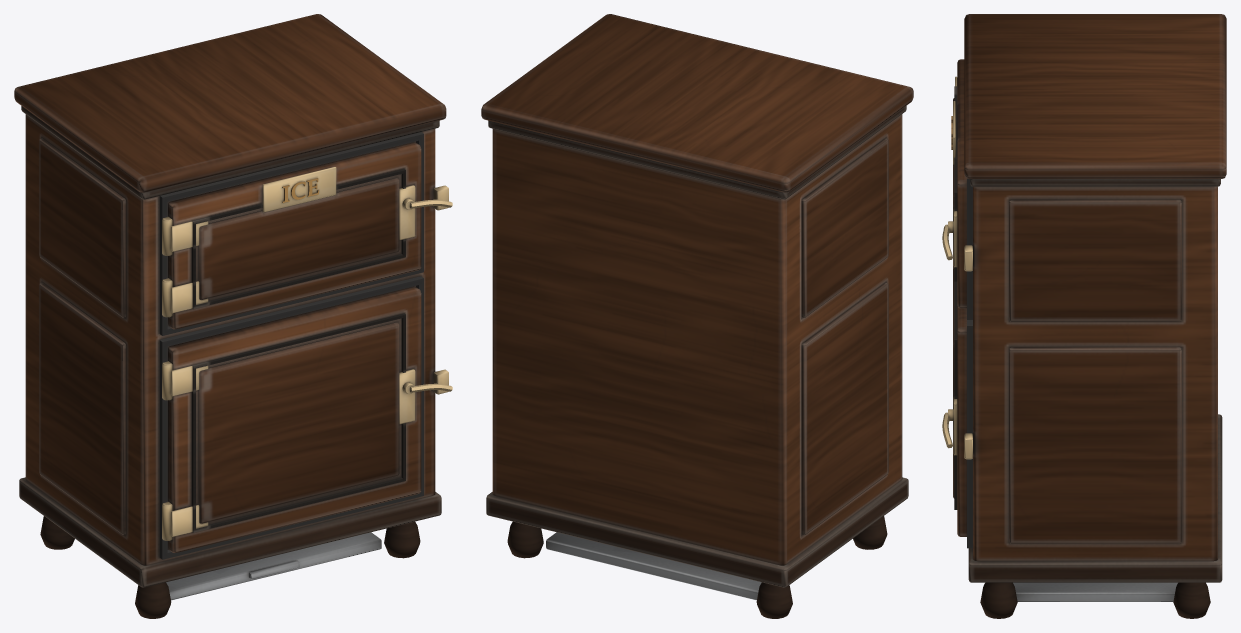
The model's file is IceBox.fbx.
3 views of the same model, side by side, from view 1: azimuth 30°, elevation 25°; view 2: azimuth 150°, elevation 25°; view 3: azimuth 270°, elevation 25° (orthographic). The views are drawn at different scales.
Parts seen in each view (by area): view 1: IceBox; view 2: IceBox; view 3: IceBox.
Part boxes in pixels (box(x1,y1,x2,y2)): IceBox: box(14, 14, 452, 618); IceBox: box(481, 14, 913, 618); IceBox: box(942, 14, 1226, 618).
Size of the model in its own units: 253 by 354 by 197.
